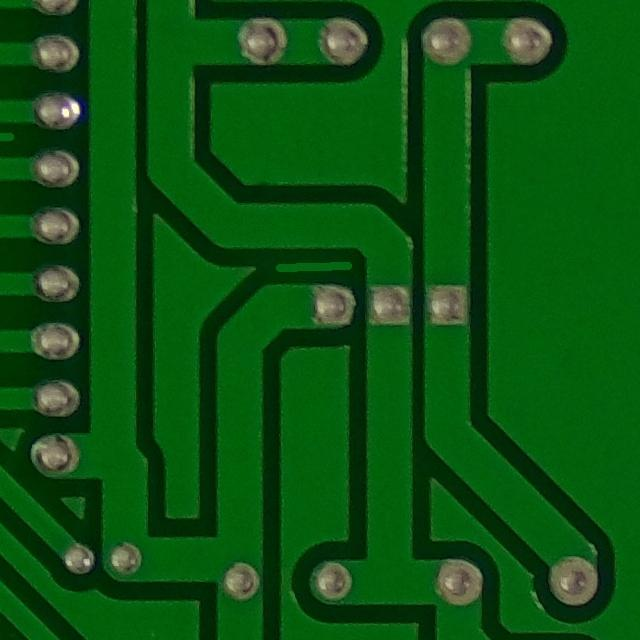spurious_copper: (257, 242, 360, 284)
